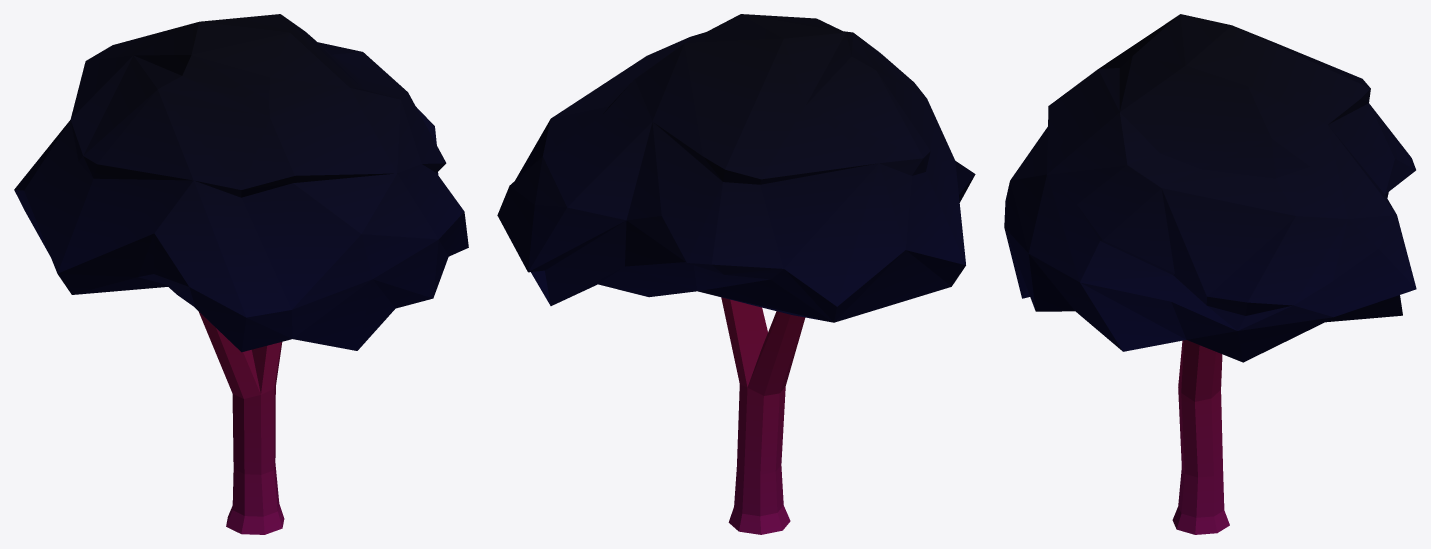
File: synty-tree-04.gltf
The picture shows the model from 3 angles, left to right: view 1: azimuth 30°, elevation 25°; view 2: azimuth 150°, elevation 25°; view 3: azimuth 270°, elevation 25°; orthographic projection. The views are drawn at different scales.
Visible parts, largest first — view 1: SM_Tree_04; view 2: SM_Tree_04; view 3: SM_Tree_04.
Boxes of the visible parts, <box> form: SM_Tree_04: <box>14,14,468,534</box>; SM_Tree_04: <box>497,14,975,534</box>; SM_Tree_04: <box>1004,14,1416,534</box>.
Bounding box in the file's own units: 3.99 × 4.7 × 3.66.
Materials: 1 (1 with a texture image).
